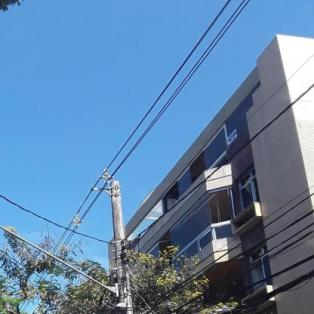Poste: (98, 170, 171, 314)
